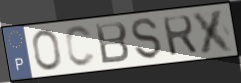B: (93, 20, 131, 66)
C: (63, 24, 98, 69)
O: (31, 28, 63, 72)
R: (160, 13, 199, 58)
S: (130, 17, 164, 61)
X: (190, 7, 236, 56)
